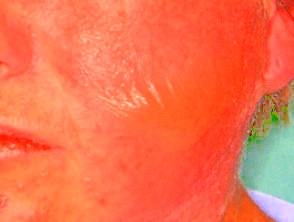SJS-TEN: (97, 19, 289, 182)
